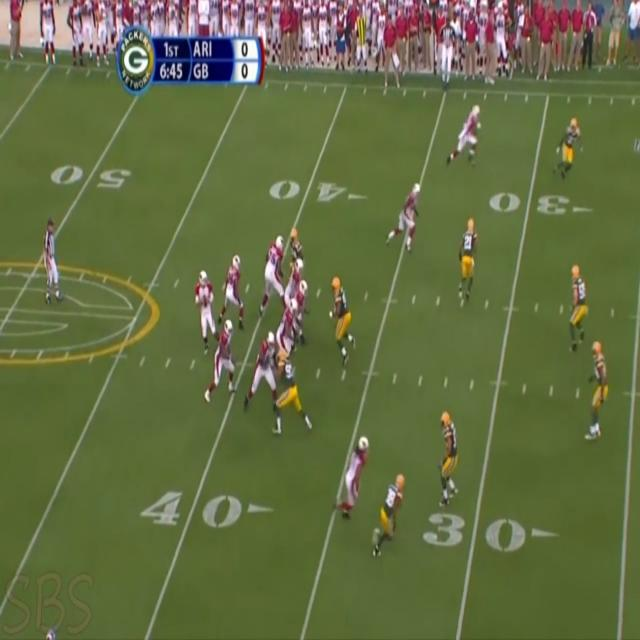players: (272, 346, 314, 437), (374, 475, 411, 565), (338, 432, 373, 524), (387, 174, 427, 254), (203, 319, 239, 407), (586, 341, 616, 444), (245, 331, 279, 416), (437, 408, 463, 512), (330, 273, 357, 373), (448, 104, 487, 173), (283, 229, 306, 334), (220, 254, 249, 337), (457, 211, 482, 307), (568, 260, 592, 358), (556, 114, 587, 188), (261, 232, 287, 319), (278, 307, 307, 371), (198, 272, 216, 355), (41, 623, 65, 639)
